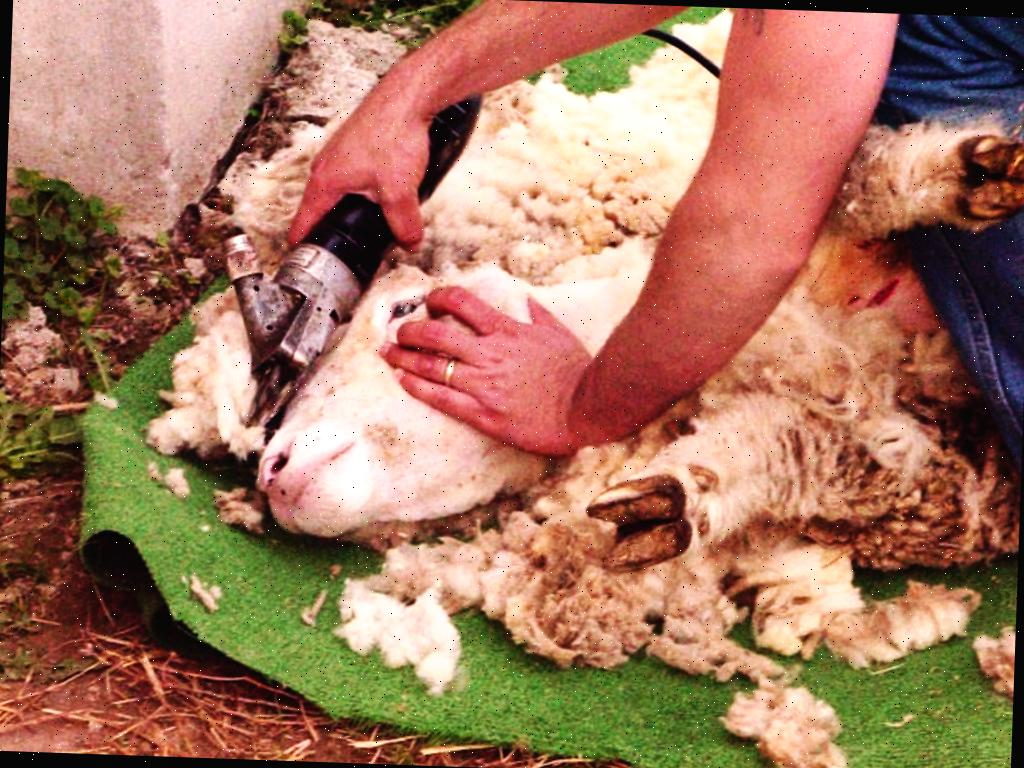Sheep: (129, 0, 1024, 768)
